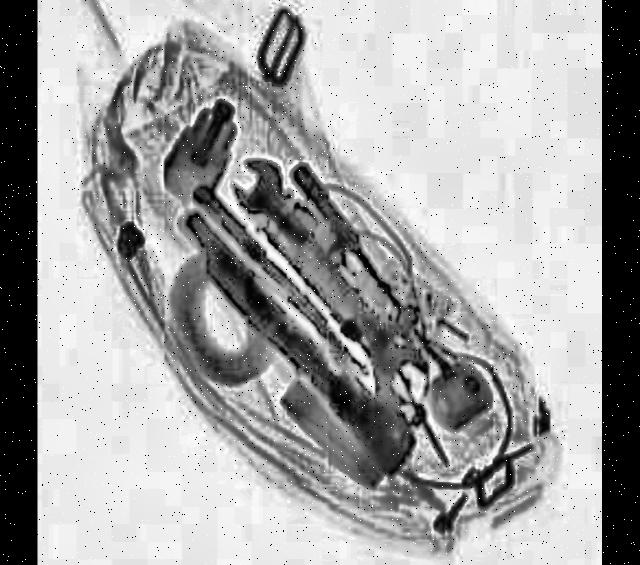Wrench: (225, 138, 438, 414)
